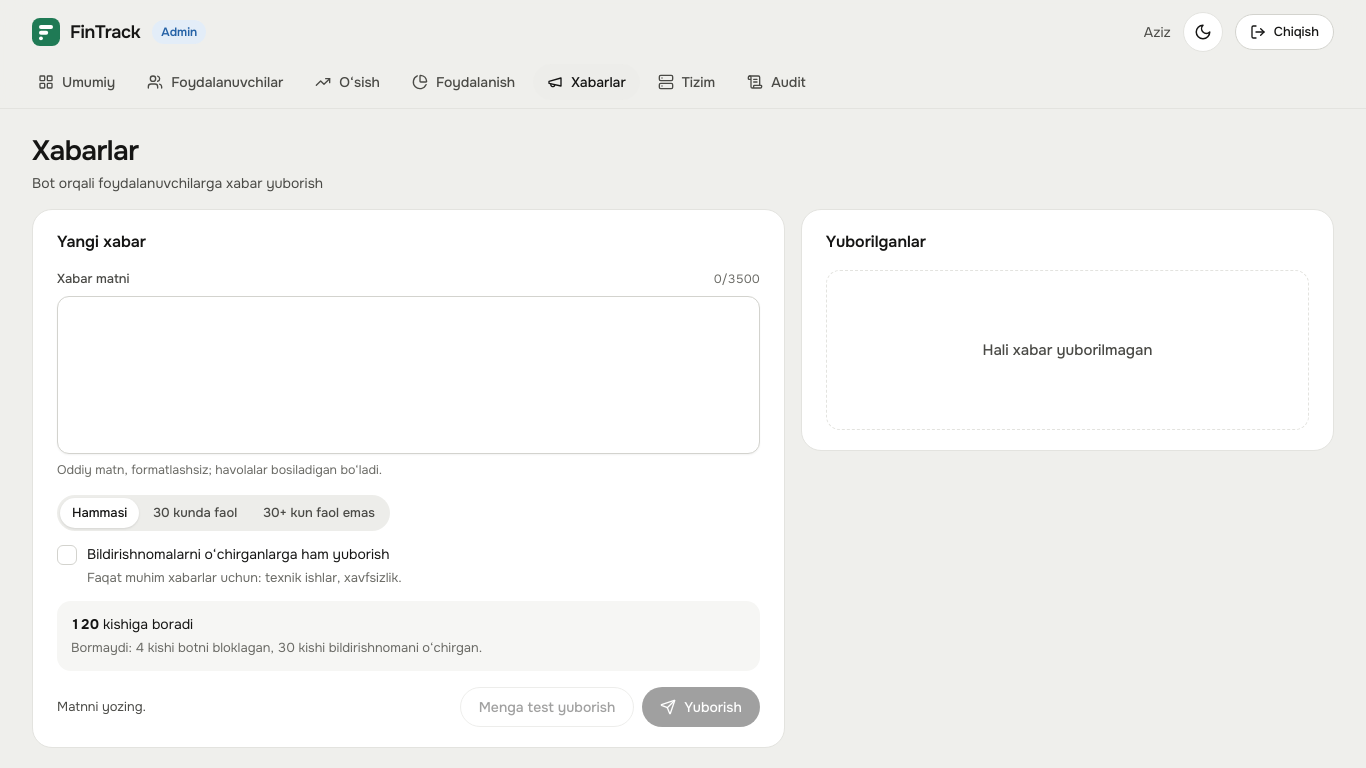
Test case: Admin broadcasts page › asks for a new test when the text changes after it was tested
This screenshot has width=1366, height=768.
In the text box labelled "Xabar matni": [408, 375] box [57, 296, 760, 454], type "Salom"
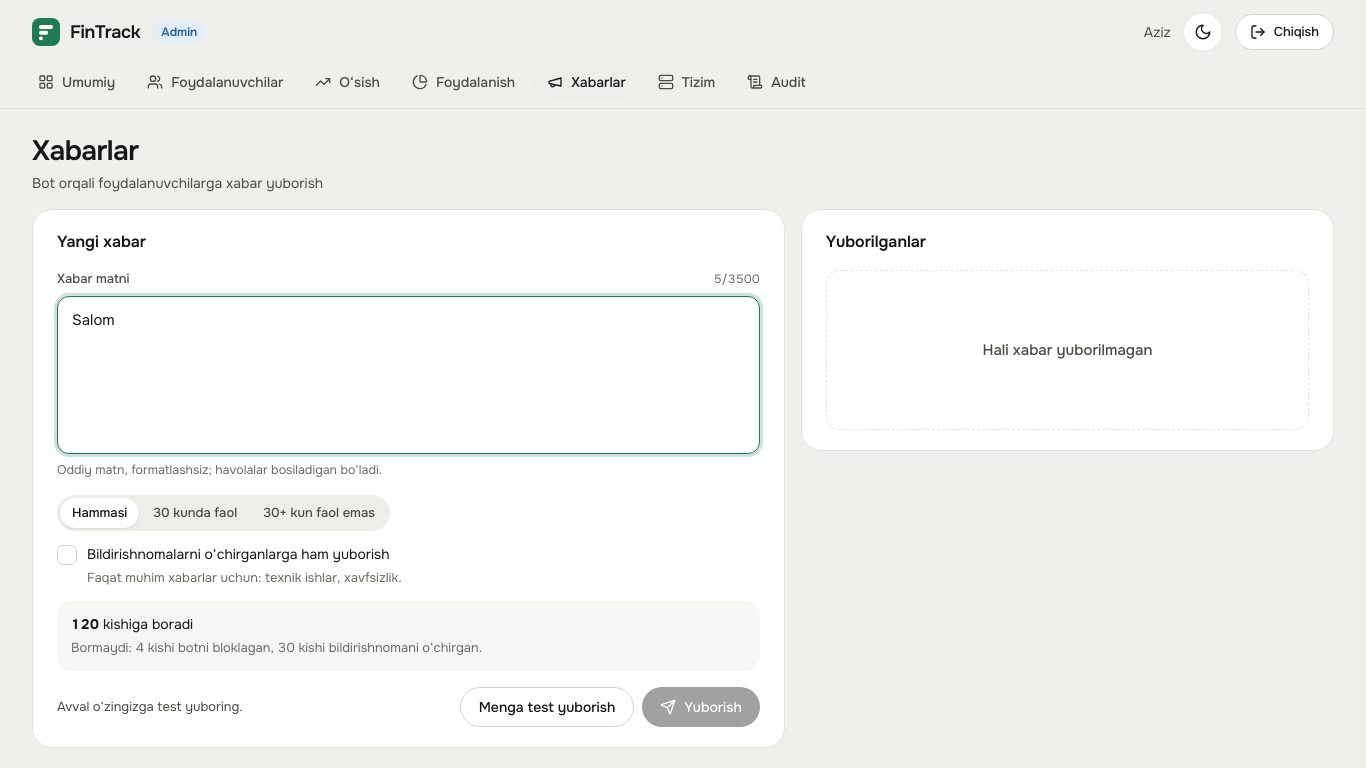
Click the button "Menga test yuborish": [547, 707] box [460, 687, 634, 727]
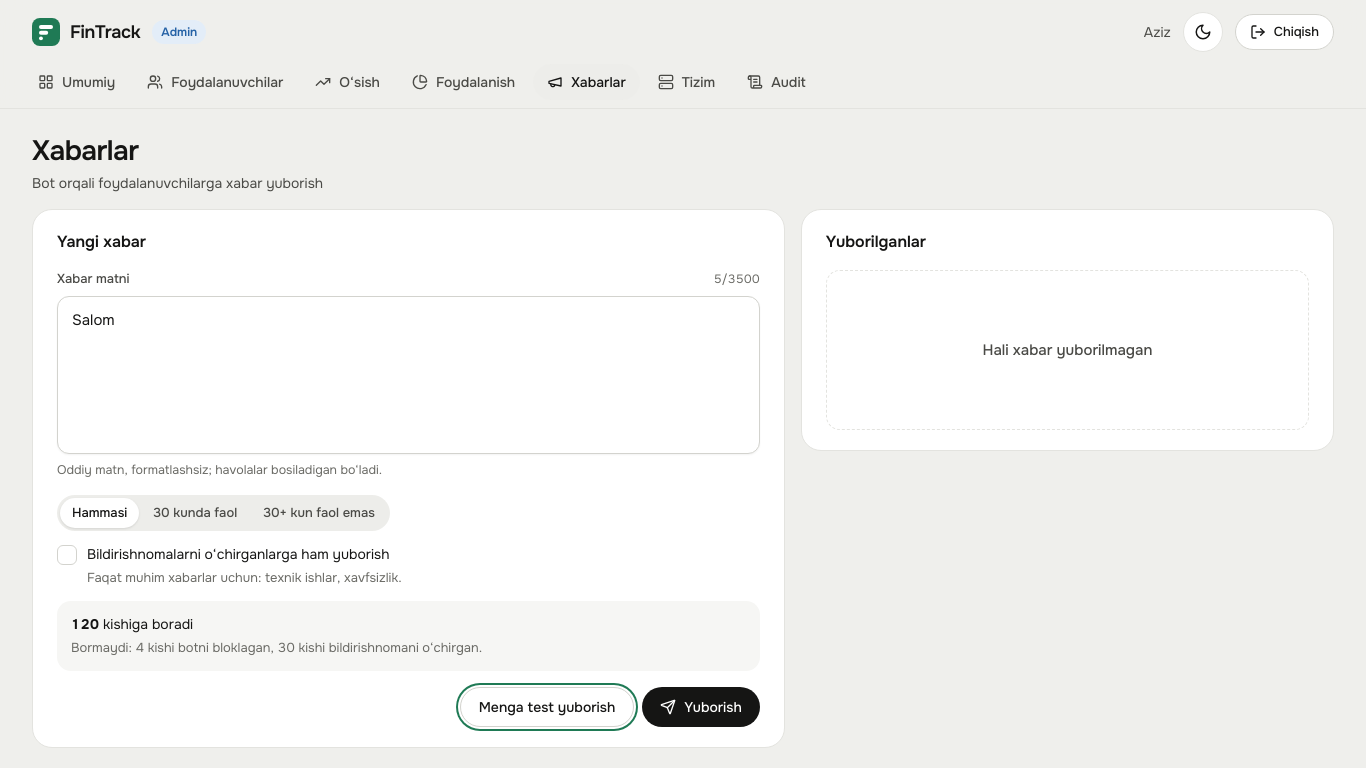
In the text box labelled "Xabar matni": [408, 375] box [57, 296, 760, 454], type "!"
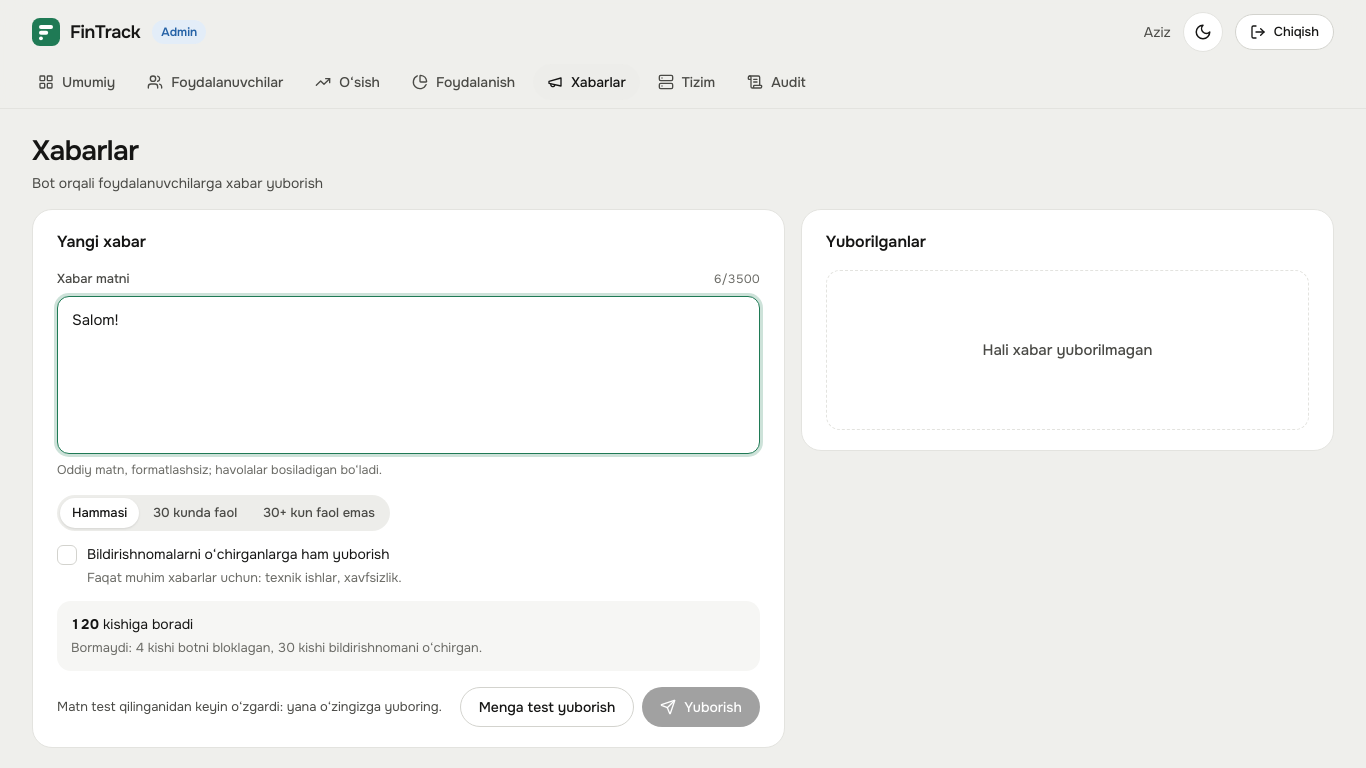
Result: the text "Matn test qilinganidan keyin o‘zgardi" is shown at [57, 698, 442, 715]
Result: the button "Yuborish" is disabled at [642, 687, 760, 727]
